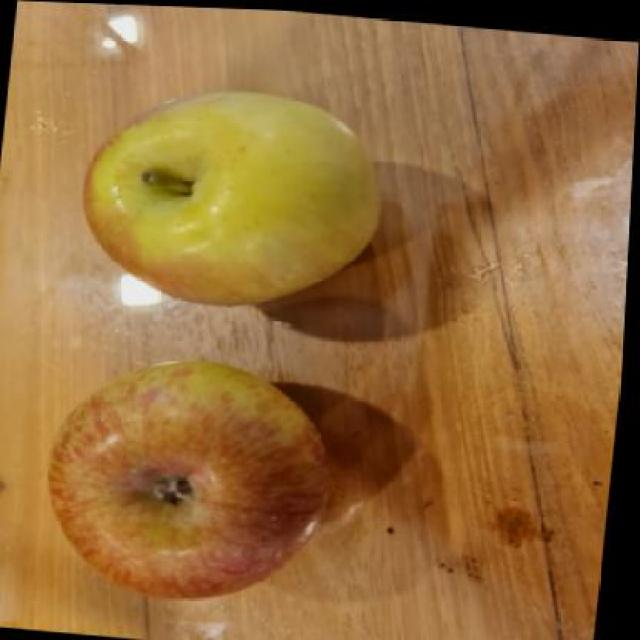Fresh Apple: (62, 92, 388, 308), (62, 376, 324, 598)
